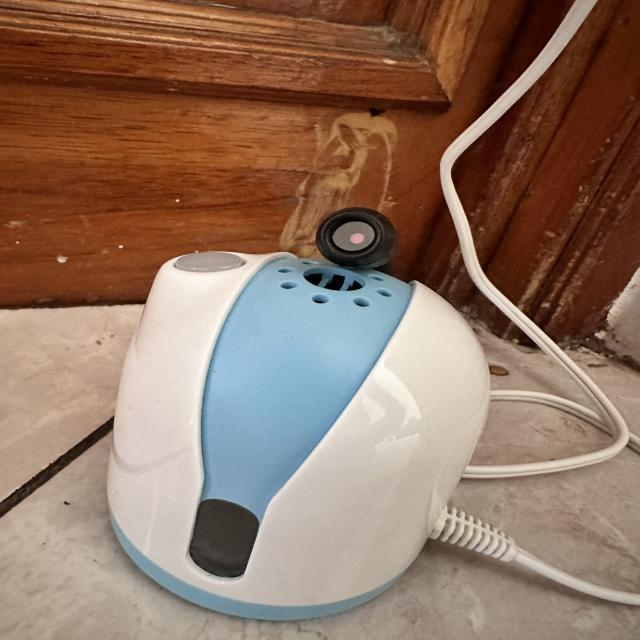hidden camera: (323, 211, 382, 258)
